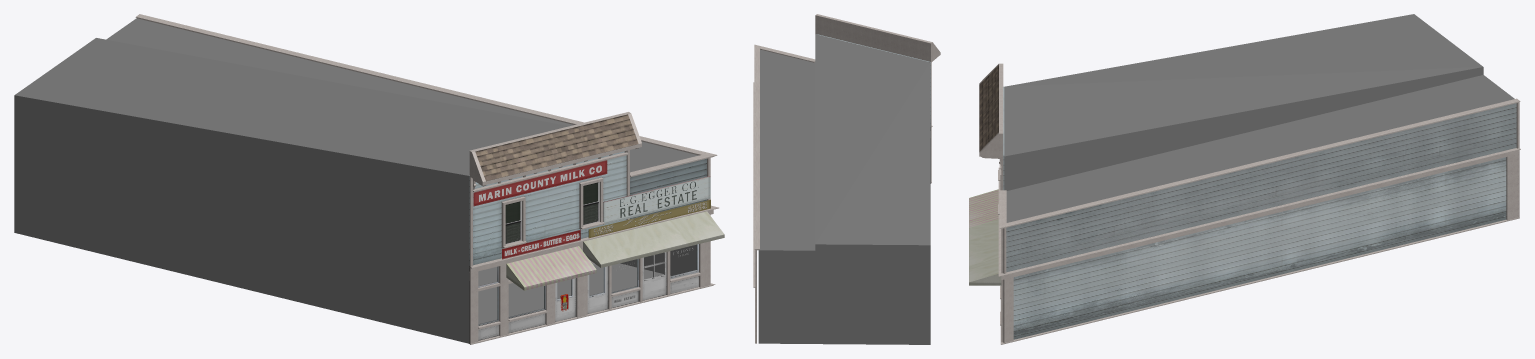
The model's file is Building 3.FBX.
The picture shows the model from 3 angles, left to right: view 1: azimuth 30°, elevation 25°; view 2: azimuth 150°, elevation 25°; view 3: azimuth 270°, elevation 25°; orthographic projection. The views are drawn at different scales.
Parts seen in each view (by area): view 1: Walls dummy, Wood_Frames, Walls, Signs, Roof, Shade, Shade001, Window Type 1; view 2: Walls dummy, Wood_Frames, Walls; view 3: Walls dummy, Walls001, Wood_Frames, Shade, Roof, Shade001.
Part boxes in pixels (x1,y1,x2,y2): Walls dummy: (14,18,698,343); Wood_Frames: (135,14,718,344); Walls: (469,151,706,343); Signs: (473,160,710,259); Roof: (475,114,638,181); Shade: (583,211,724,267); Shade001: (506,246,596,290); Window Type 1: (505,182,599,243); Walls dummy: (758,34,930,344); Wood_Frames: (753,14,940,343); Walls: (816,34,930,183); Walls dummy: (1004,14,1514,222); Walls001: (1006,103,1516,339); Wood_Frames: (979,63,1520,344); Shade: (969,219,1001,285); Roof: (979,65,998,151); Shade001: (969,189,998,227).
Bounding box in the file's own units: 17.96 × 20.05 × 7.
Materials: 10 (9 with a texture image).
